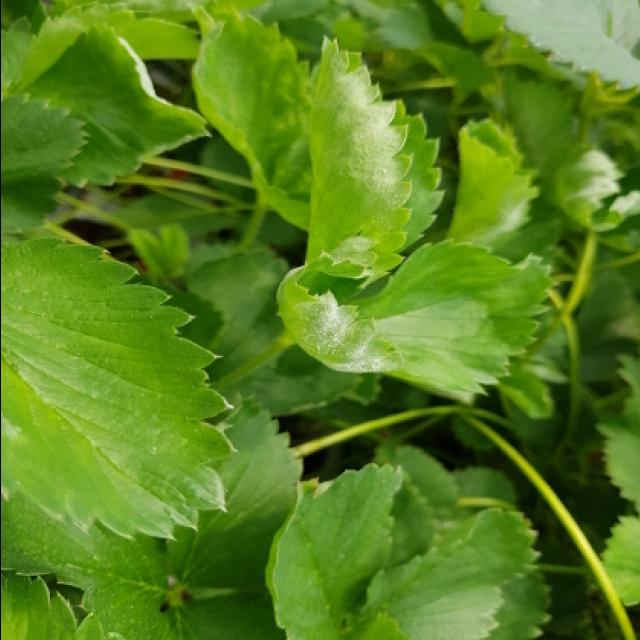Powdery Mildew Leaf: (2, 237, 238, 540), (303, 33, 445, 291), (18, 20, 212, 189), (273, 234, 402, 376), (444, 119, 541, 250), (551, 143, 626, 232)
